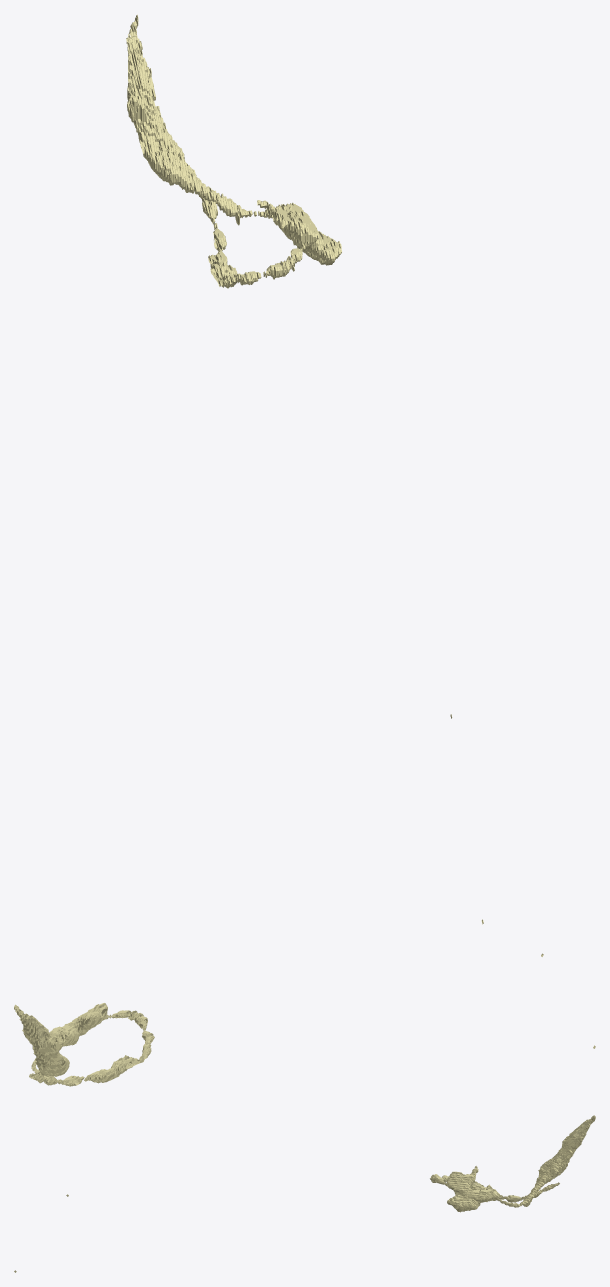
File: SVV_OLQVL.gltf
3 views of the same model, one above another, from view 1: azimuth 30°, elevation 25°; view 2: azimuth 150°, elevation 25°; view 3: azimuth 270°, elevation 25° (orthographic). The views are drawn at different scales.
Visible parts, largest first — view 1: OLQVL; view 2: OLQVL; view 3: OLQVL.
Boxes of the visible parts, box(x1,y1,x2,y2) form: OLQVL: box(126, 14, 483, 924); OLQVL: box(14, 953, 595, 1086); OLQVL: box(14, 1115, 595, 1272).
Size of the model in its own units: 77183 by 104883 by 257737.
